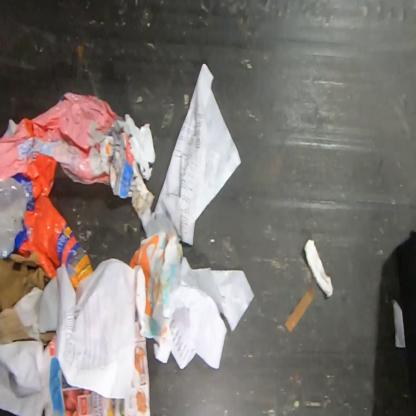cardboard: (0, 252, 57, 352)
soft_plastic: (0, 90, 118, 292)
